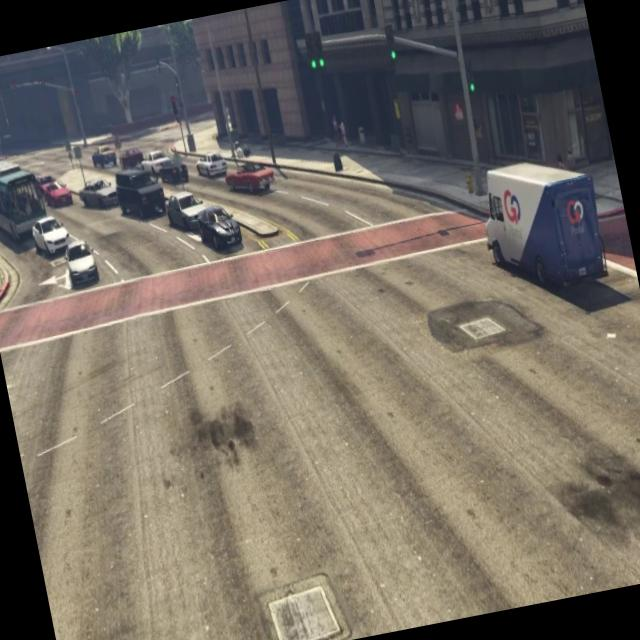Green-Signal: (296, 20, 342, 102), (454, 46, 488, 111), (378, 18, 408, 80)
